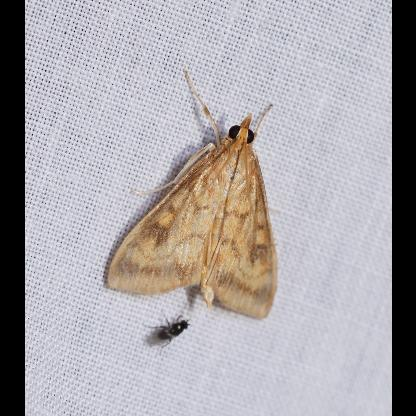Asian Corn Borer Moth: (102, 64, 286, 324)
